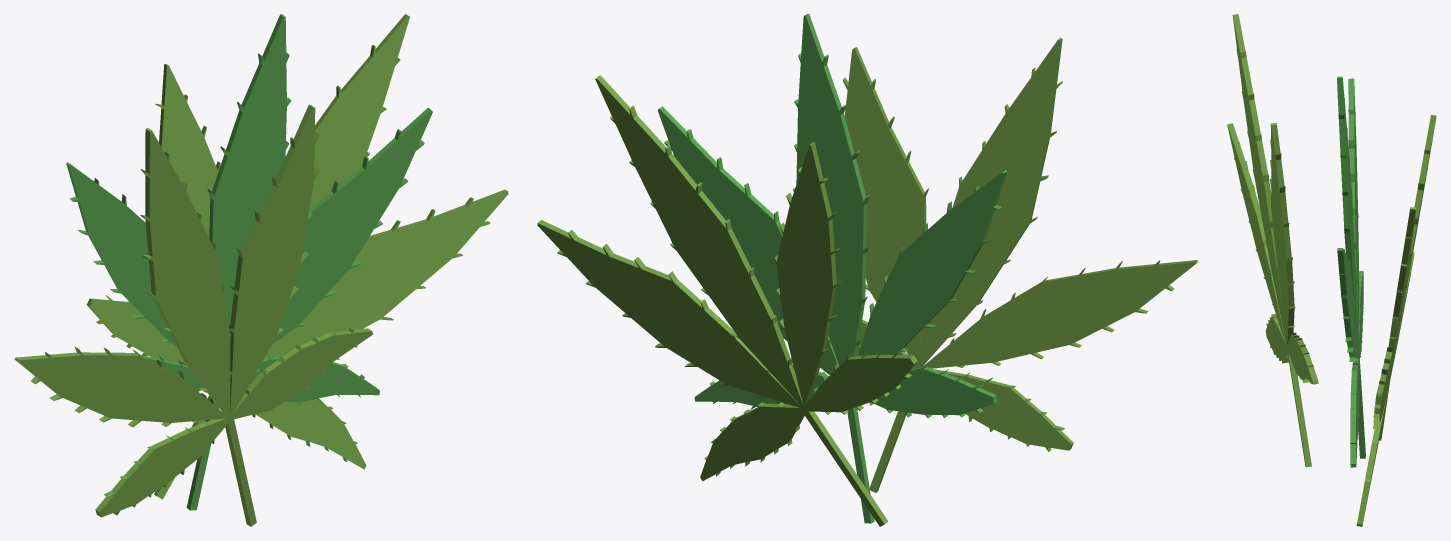
Rendered from weed.fbx.
3 views of the same model, side by side, from view 1: azimuth 30°, elevation 25°; view 2: azimuth 150°, elevation 25°; view 3: azimuth 270°, elevation 25° (orthographic). The views are drawn at different scales.
Parts seen in each view (by area): view 1: weed; view 2: weed; view 3: weed.
Boxes of the visible parts, box(x1,y1,x2,y2) form: weed: box(14, 14, 508, 526); weed: box(537, 14, 1198, 526); weed: box(1227, 14, 1436, 526).
Size of the model in its own units: 139 by 111 by 51.12.
